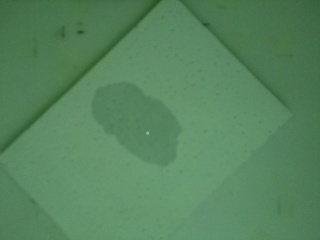Water_detected: (105, 97, 170, 161)
